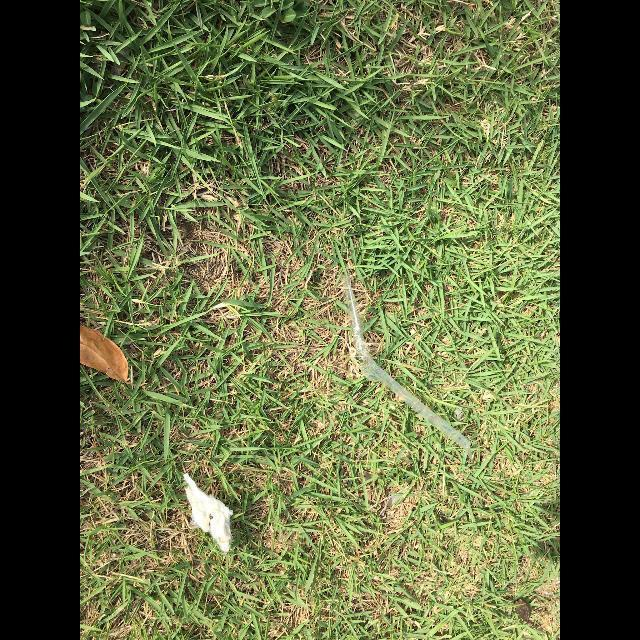Plastic: (341, 274, 472, 461), (183, 472, 233, 552)
